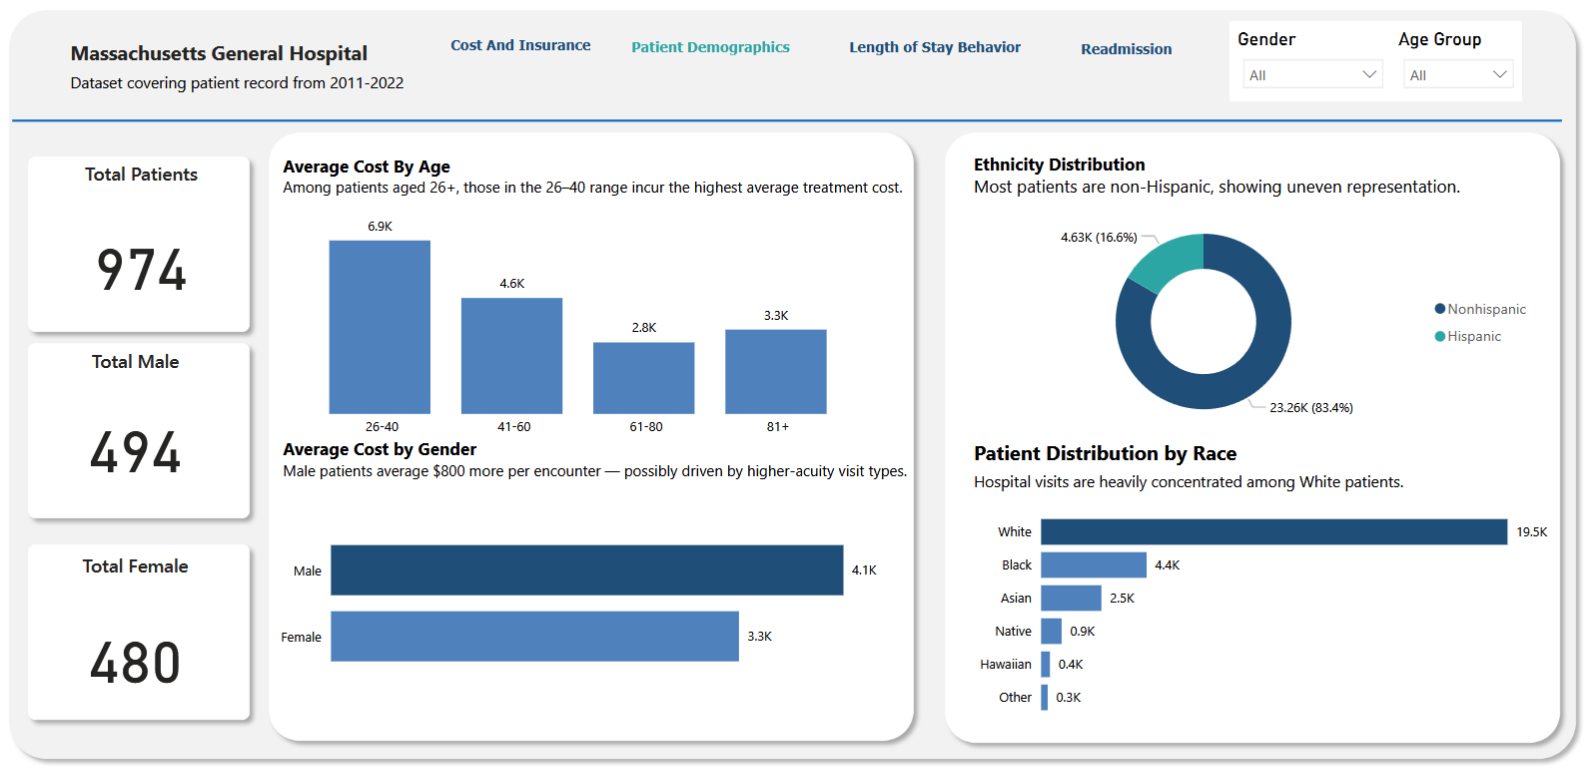

This screenshot's page, from the dashboard's own definition file:
{"tool":"powerbi","page":{"name":"PATIENT DEMOGRAPHICS","canvas":[1400,740],"ordinal":2},"visuals":[{"type":"shape","box":[0,10,1370,720],"z":0},{"type":"textbox","title":"Massachusetts General Hospital","box":[65.2,32.6,313.7,77.6],"z":1000},{"type":"shape","box":[11.7,113.3,1346.7,8.3],"z":2000},{"type":"actionButton","box":[379.3,26.7,122.7,40.4],"z":3000},{"type":"actionButton","box":[501.6,26.4,150.6,40.4],"z":4000},{"type":"actionButton","box":[653.8,26.4,178.6,40.4],"z":5000},{"type":"actionButton","box":[832.3,26.4,203.4,40.4],"z":6000},{"type":"shape","box":[685,125,635,588.3],"z":7000},{"type":"shape","box":[40,126.7,635,586.7],"z":8000},{"type":"barChart","fields":{"Category":["patients.GENDER"],"Y":["encounters.Avg Cost"]},"box":[70,446.7,576.7,241.7],"z":9000},{"type":"donutChart","fields":{"Category":["patients.ETHNICITY"],"Y":["CountNonNull(encounters.PATIENT ID)"]},"box":[714.3,198.8,585.4,222.1],"z":10000},{"type":"columnChart","fields":{"Category":["patients.AGE GROUP"],"Y":["encounters.Avg Cost"]},"box":[65,198.3,576.7,226.7],"z":11000},{"type":"textbox","title":"Average Cost by Age Group","box":[70.5,148.7,604.2,70.5],"z":12000},{"type":"textbox","box":[70.5,424.8,604.2,72.1],"z":13000},{"type":"textbox","box":[715,148.3,536.7,71.7],"z":14000},{"type":"shape","box":[1040.1,24.2,274.6,84],"z":15000},{"type":"barChart","title":"Patient Distribution by Race","fields":{"Category":["patients.RACE"],"Y":["CountNonNull(encounters.ENCOUNTER ID)"]},"box":[714.3,425.5,512.4,271.8],"z":16000},{"type":"slicer","title":"GENDER","fields":{"Values":["patients.GENDER"]},"box":[1040.1,29.1,151.8,77.5],"z":17000},{"type":"slicer","title":"AGE GROUP","fields":{"Values":["patients.AGE GROUP"]},"box":[1190.3,27.5,122.7,75.9],"z":18000}]}

Visuals, with their boxes on the page's 1400x740 design canvas (x1, y1, x2, y2). These are canvas units, not pixel positions in the 1585x768 screenshot, which may show the page scaled, cropped or inside an application window:
shape: 0:10:1370:730
"Massachusetts General Hospital" textbox: 65:33:379:110
shape: 12:113:1358:122
actionButton: 379:27:502:67
actionButton: 502:26:652:67
actionButton: 654:26:832:67
actionButton: 832:26:1036:67
shape: 685:125:1320:713
shape: 40:127:675:713
barChart - patients.GENDER x encounters.Avg Cost: 70:447:647:688
donutChart - patients.ETHNICITY x CountNonNull(encounters.PATIENT ID): 714:199:1300:421
columnChart - patients.AGE GROUP x encounters.Avg Cost: 65:198:642:425
"Average Cost by Age Group" textbox: 70:149:675:219
textbox: 70:425:675:497
textbox: 715:148:1252:220
shape: 1040:24:1315:108
"Patient Distribution by Race" barChart: 714:426:1227:697
"GENDER" slicer: 1040:29:1192:107
"AGE GROUP" slicer: 1190:28:1313:103
